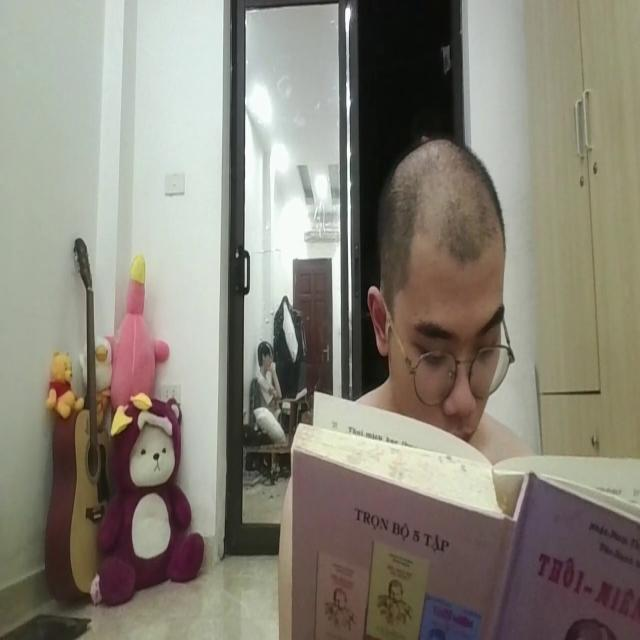book: (282, 366, 640, 640)
extra_person: (252, 337, 282, 423)
student: (350, 127, 520, 452)
